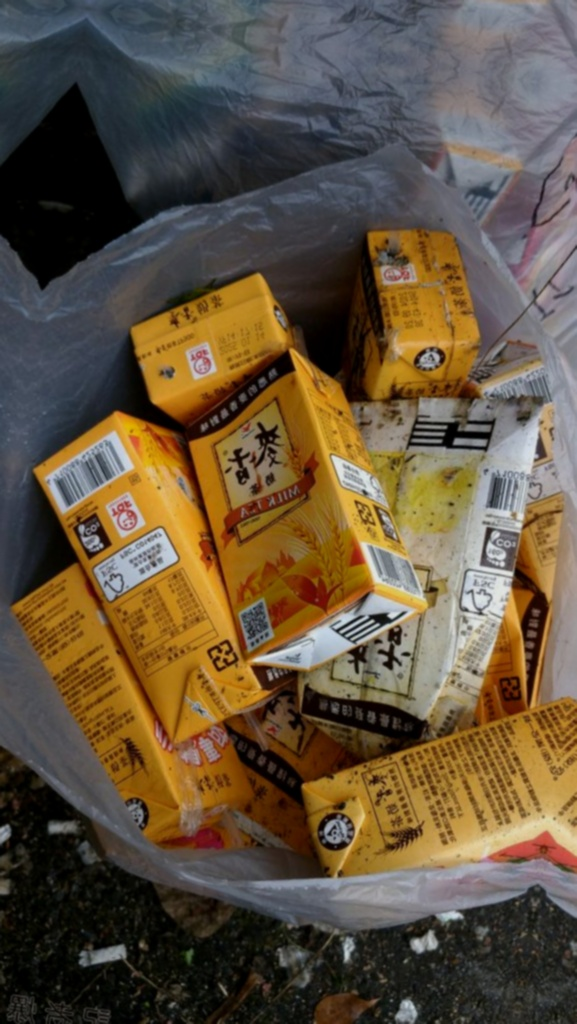鋁箔包: (0, 399, 329, 761), (148, 332, 467, 691), (0, 552, 271, 858), (276, 652, 570, 924), (113, 249, 309, 439), (323, 212, 496, 416), (532, 695, 577, 966), (0, 346, 6, 708)
